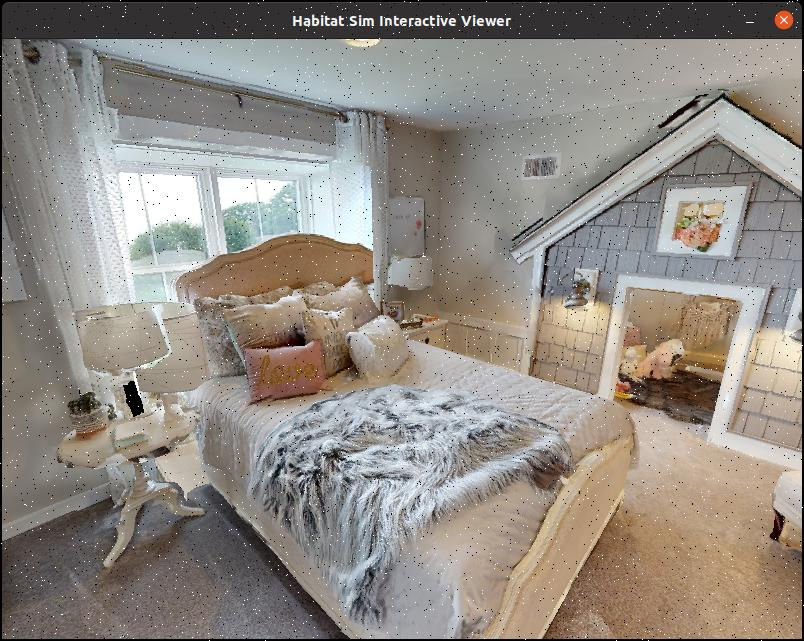bed: (144, 229, 647, 641)
